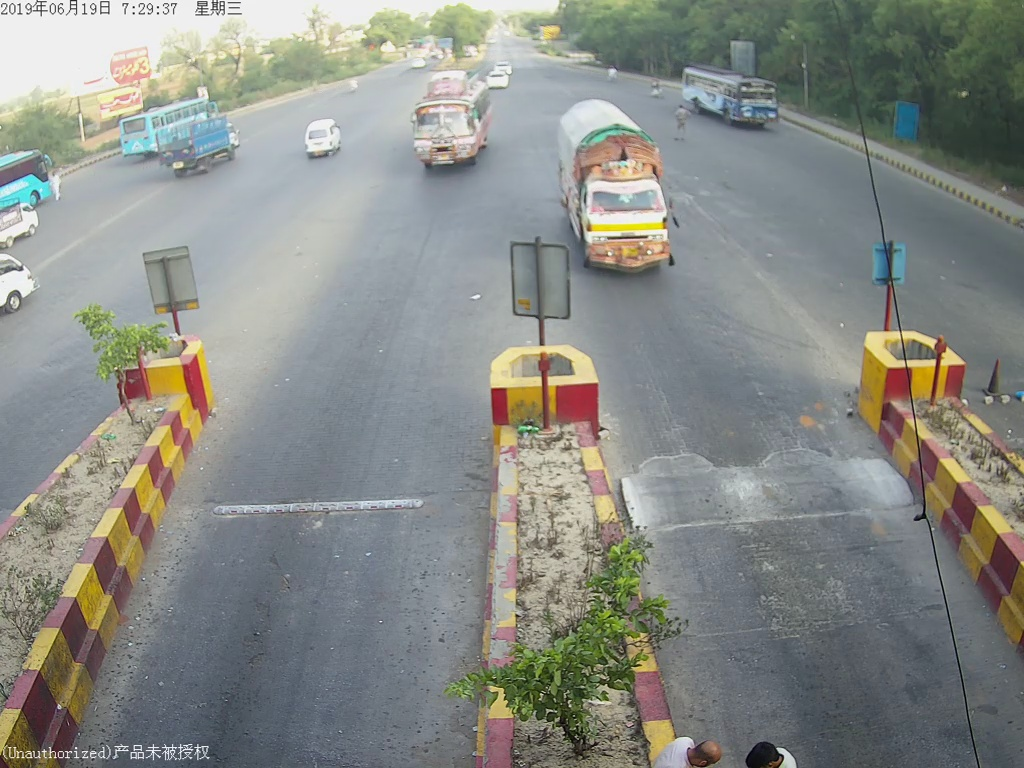Cat-3: (402, 71, 495, 176)
Cat-4: (557, 98, 693, 279)
